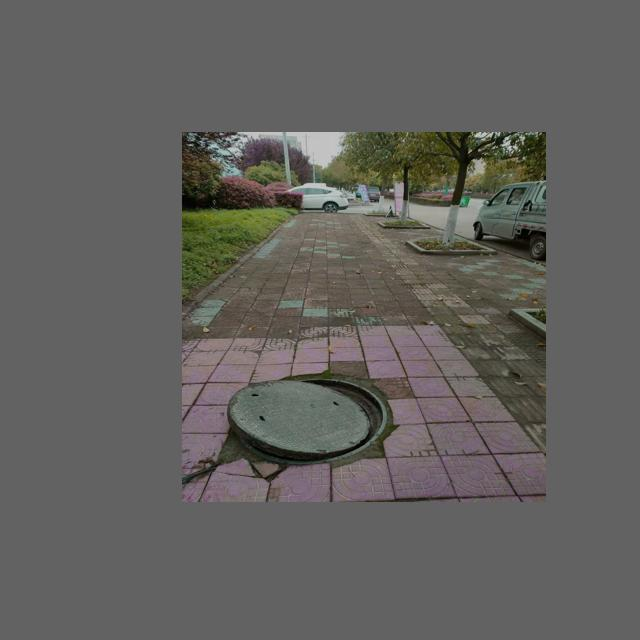uncovered: (226, 378, 388, 466)
